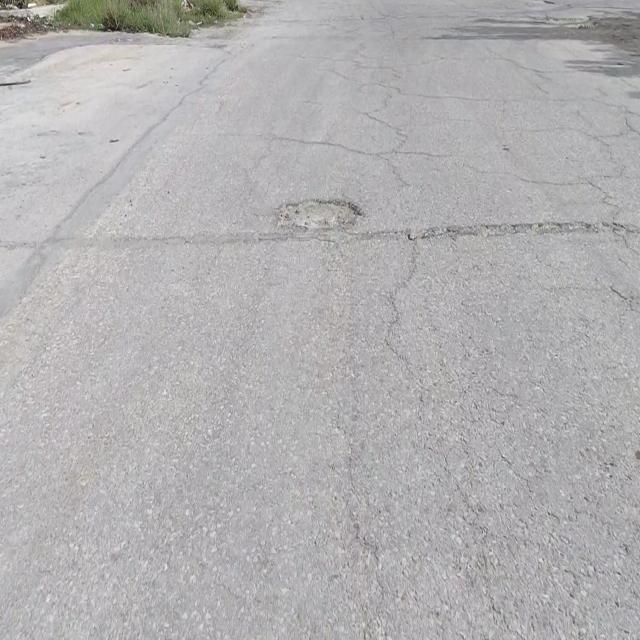Potholes: (278, 198, 364, 230)
